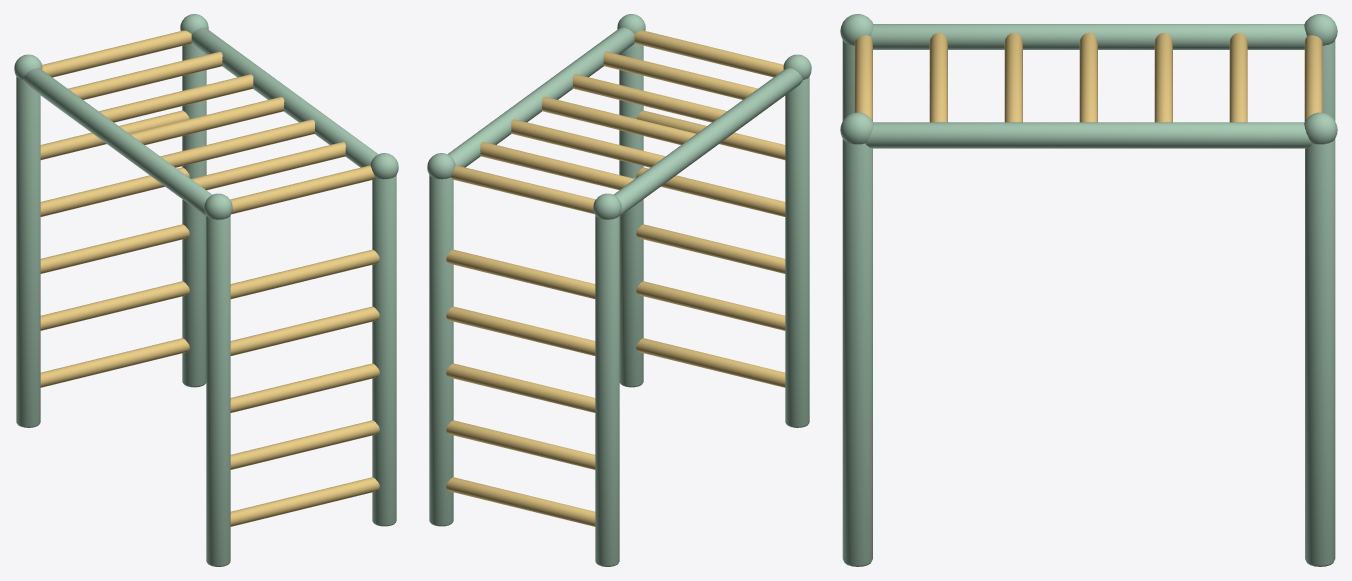
Rendered from monkey-bars.glb.
3 renders of one model, left to right at view 1: azimuth 30°, elevation 25°; view 2: azimuth 150°, elevation 25°; view 3: azimuth 270°, elevation 25°, orthographic. The views are drawn at different scales.
Visible parts, largest first — view 1: AssetSurface; view 2: AssetSurface; view 3: AssetSurface.
Boxes of the visible parts, left/top/right/bottom form: AssetSurface: left=14, top=14, right=398, bottom=566; AssetSurface: left=427, top=14, right=811, bottom=566; AssetSurface: left=840, top=14, right=1337, bottom=566.
Bounding box in the file's own units: 1.33 × 2.46 × 2.47.
